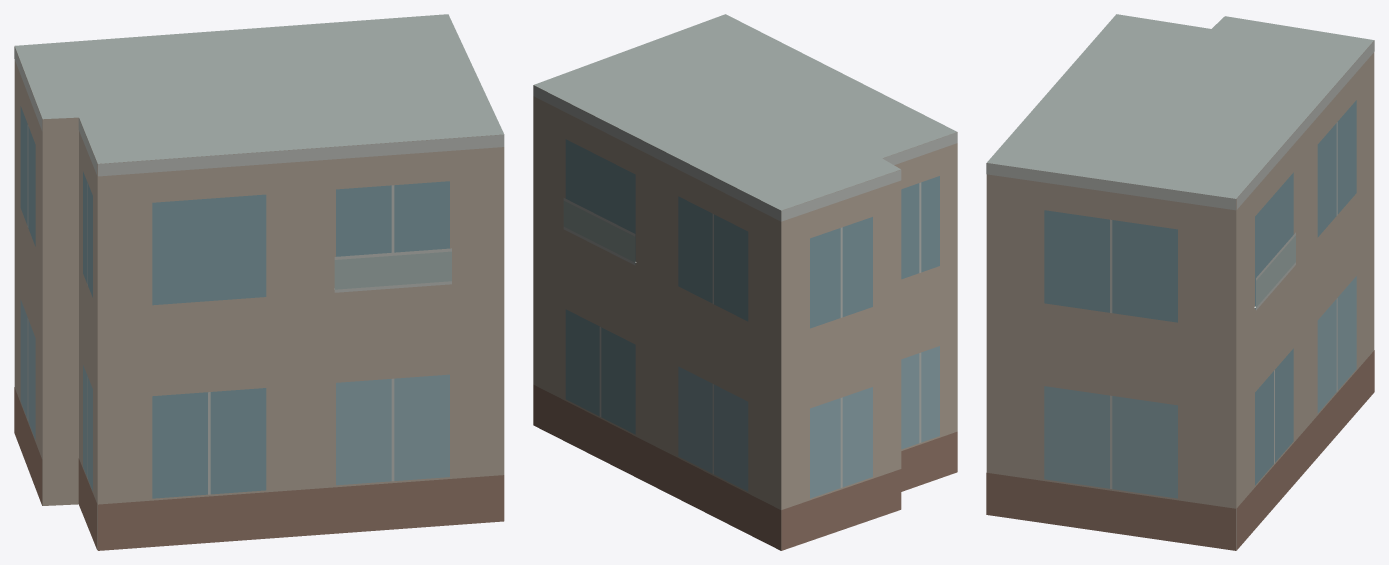
File: survey-upis-32512788.glb
3 renders of one model, left to right at view 1: azimuth 30°, elevation 25°; view 2: azimuth 150°, elevation 25°; view 3: azimuth 270°, elevation 25°, orthographic. The views are drawn at different scales.
Visible parts, largest first — view 1: survey-upis-32512788.tmp; view 2: survey-upis-32512788.tmp; view 3: survey-upis-32512788.tmp.
Boxes of the visible parts, x1,y1,x2,y2 form: survey-upis-32512788.tmp: [14, 14, 504, 550]; survey-upis-32512788.tmp: [533, 14, 957, 550]; survey-upis-32512788.tmp: [986, 14, 1374, 550].
Bounding box in the file's own units: 8.46 × 7.5 × 7.5.
